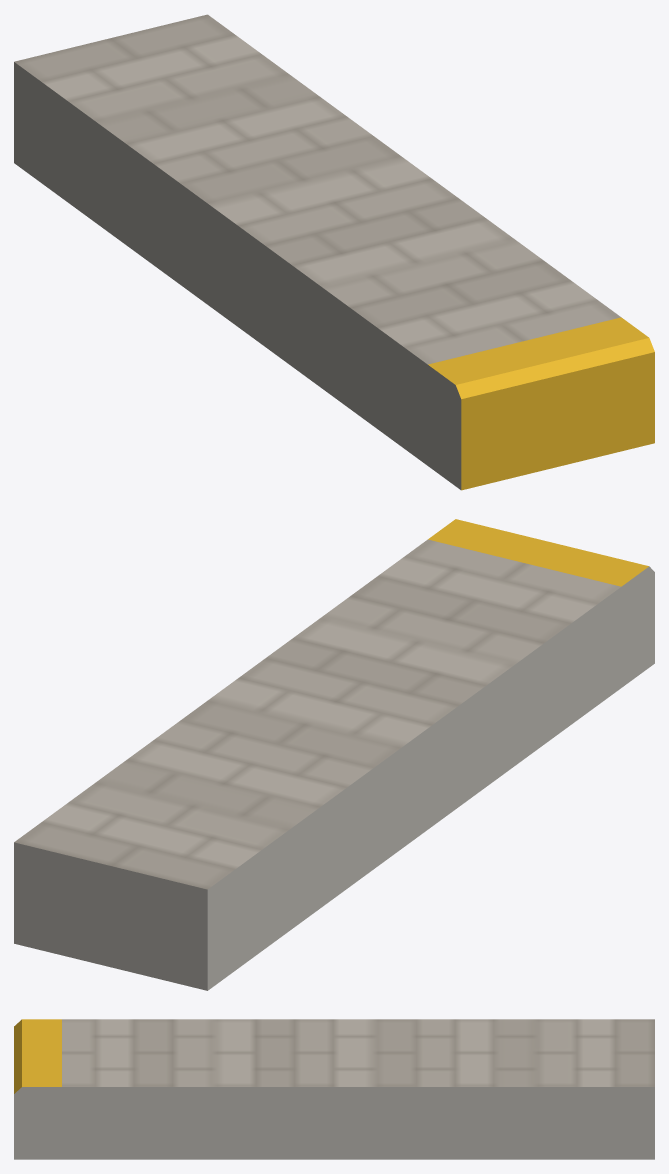
File: SM_Ground_Sidewalk_200x50_Yellow_01.fbx
3 views of the same model, one above another, from view 1: azimuth 30°, elevation 25°; view 2: azimuth 150°, elevation 25°; view 3: azimuth 270°, elevation 25° (orthographic). The views are drawn at different scales.
Visible parts, largest first — view 1: SM_Ground_Sidewalk_200x50_Yellow_01; view 2: SM_Ground_Sidewalk_200x50_Yellow_01; view 3: SM_Ground_Sidewalk_200x50_Yellow_01.
Part boxes in pixels (bbox=[...]): SM_Ground_Sidewalk_200x50_Yellow_01: bbox=[14, 14, 654, 490]; SM_Ground_Sidewalk_200x50_Yellow_01: bbox=[14, 519, 654, 990]; SM_Ground_Sidewalk_200x50_Yellow_01: bbox=[14, 1019, 654, 1159].
Bounding box in the file's own units: 0.5 × 0.25 × 2.
1 material, 1 textured.
